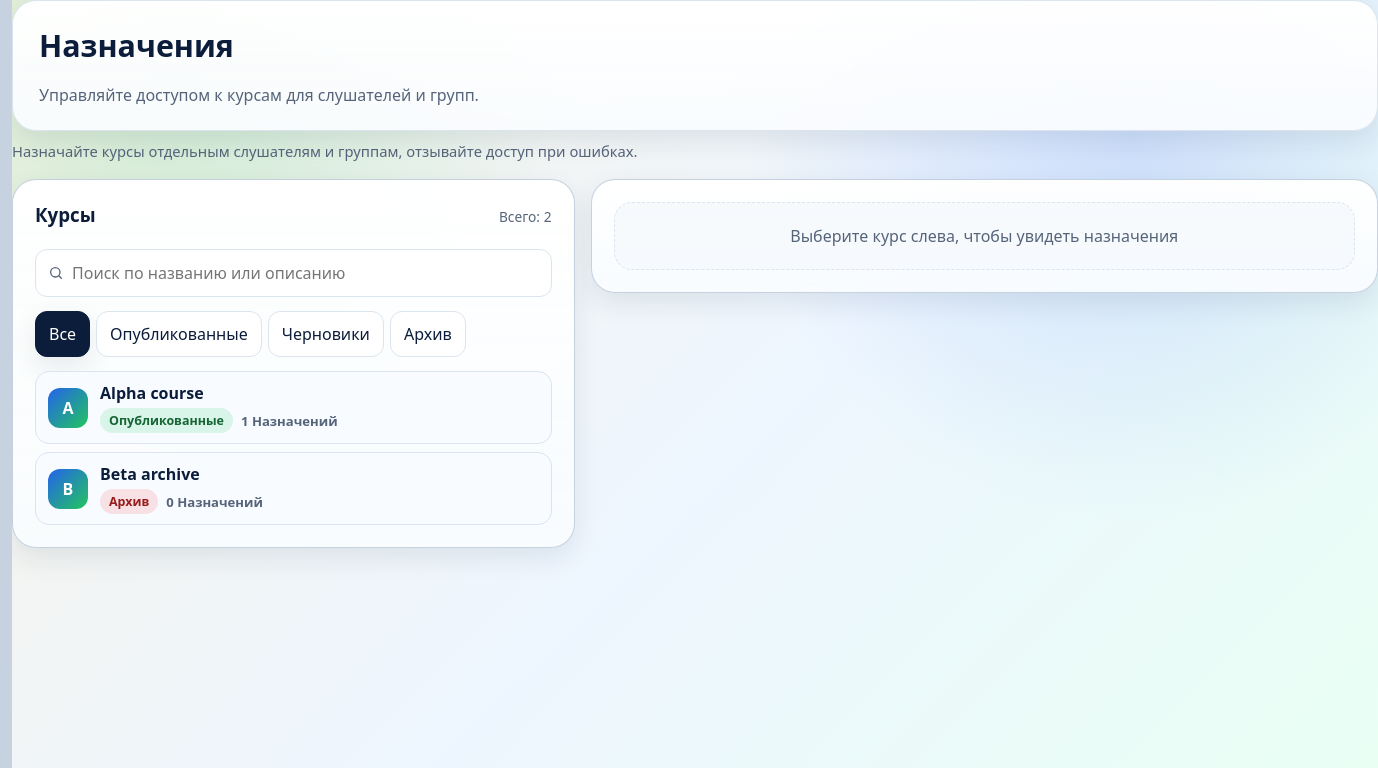
Test case: AssignmentsPage › filters courses by search query
Expected: the button "A Alpha course Опубликованные 1 Назначений" is shown, [35,371,552,444]
Type "beta" into the field with placeholder "Поиск по названию или описанию" at (305, 273), box [72,258,538,288]
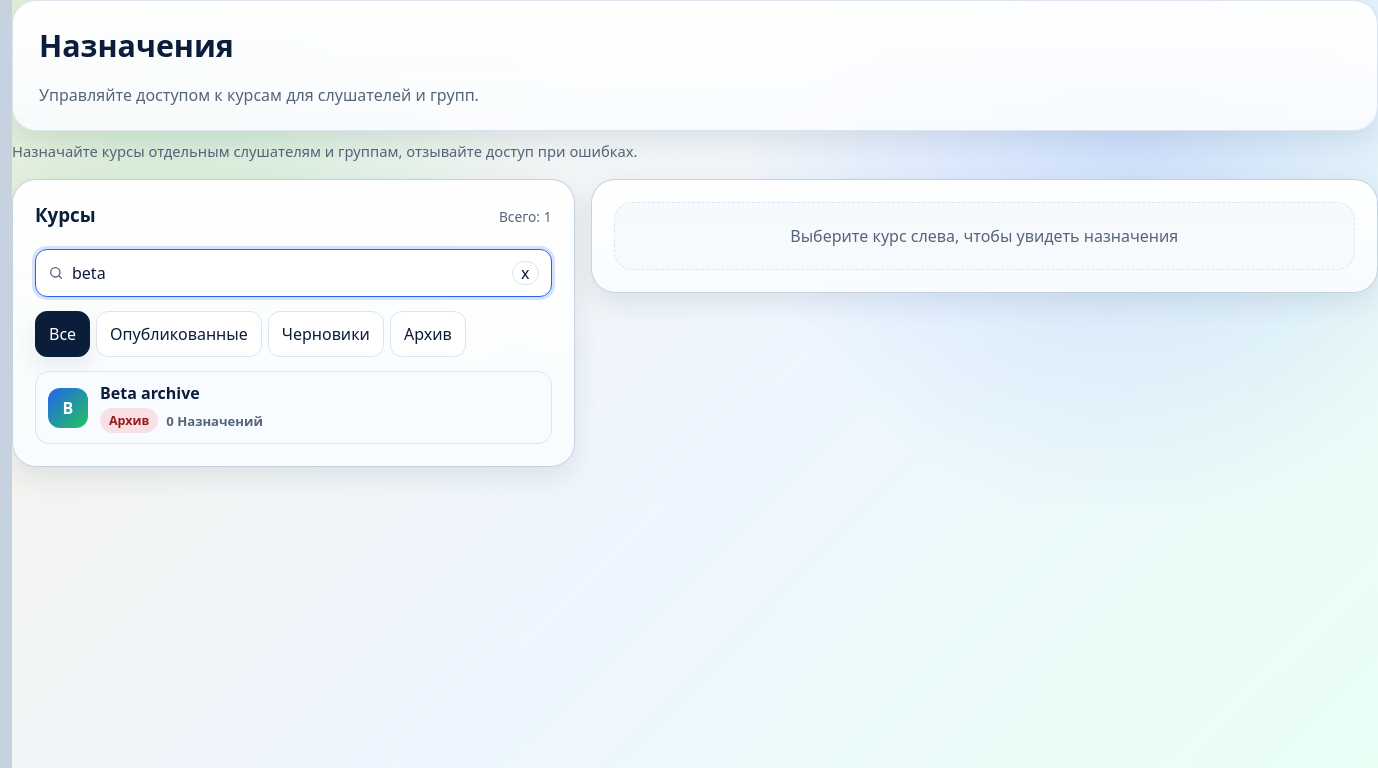
Expected: the button "B Beta archive Архив 0 Назначений" is shown, [35,371,552,444]
Expected: the button "Alpha course" is gone
